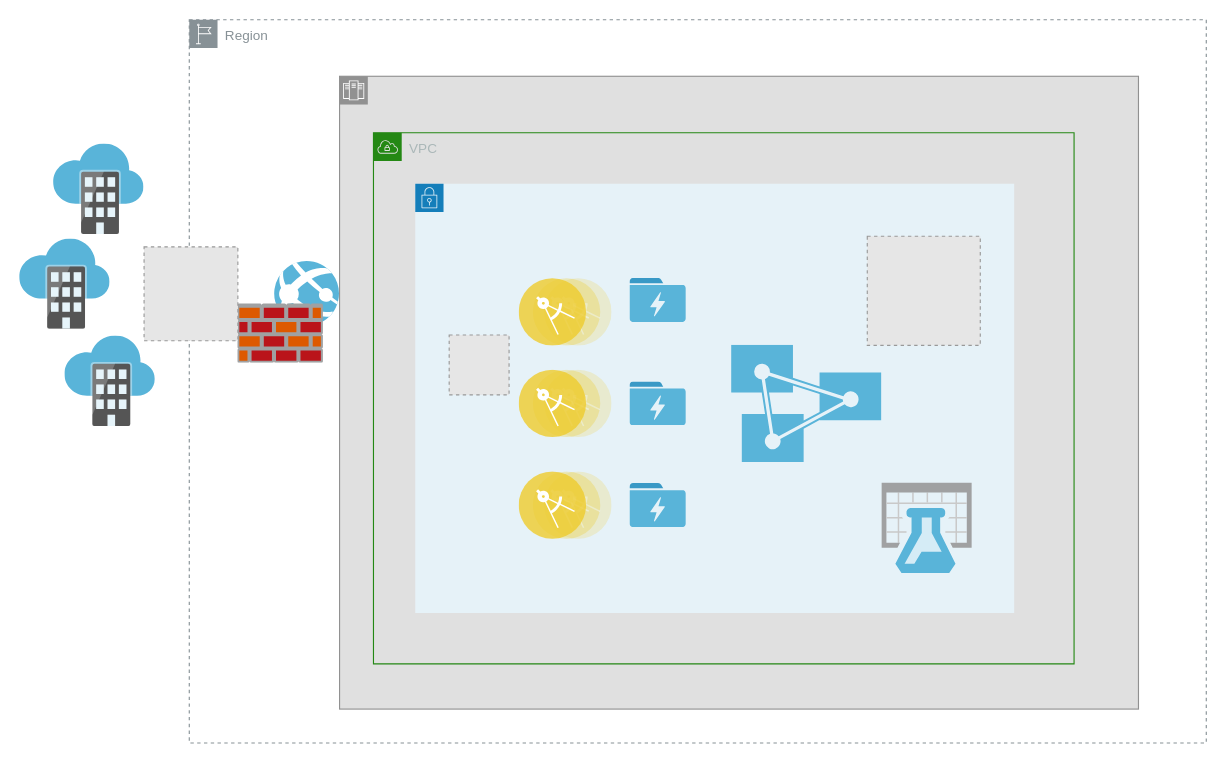
Some shapes in this 1226 by 763 pixel diagram are drawn without their labels. Grey dashed boxes stand in for pictures. The box of each missing label's shape, as (x1, y1, x2, y2) in pixels:
Availability Zone: (338, 75, 1138, 709)
Private subnet: (414, 182, 1014, 613)
